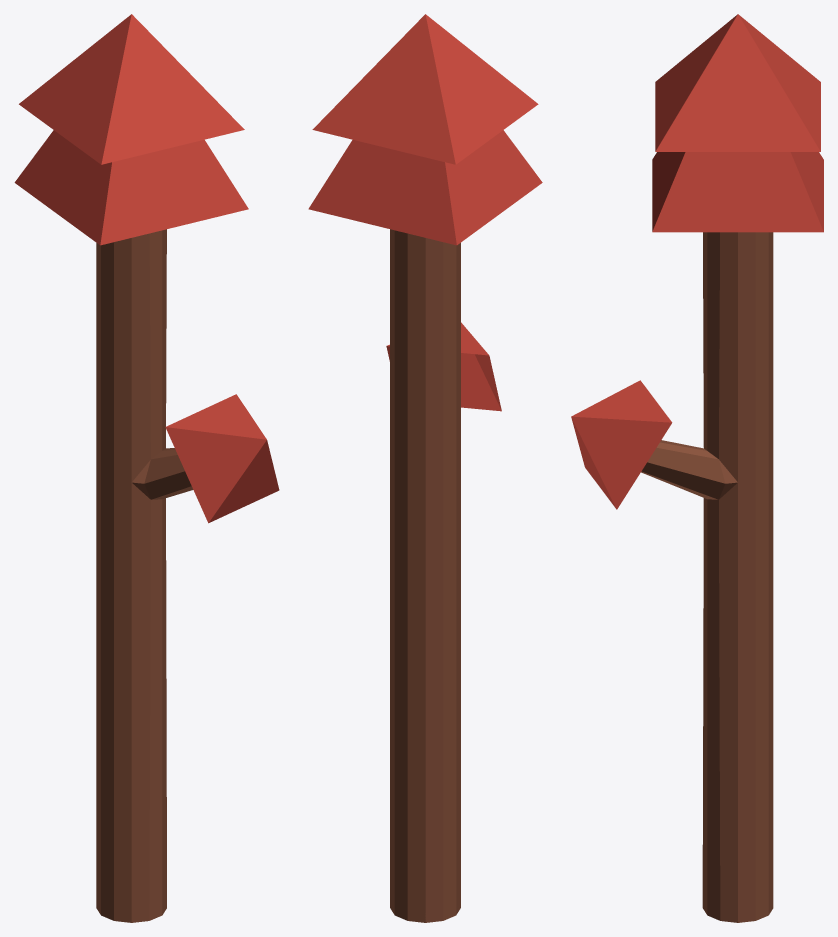
File: Tree_25_summer_red_mat.fbx
3 renders of one model, left to right at view 1: azimuth 30°, elevation 25°; view 2: azimuth 150°, elevation 25°; view 3: azimuth 270°, elevation 25°, orthographic.
Visible parts, largest first — view 1: Tree_25_summer_red_mat; view 2: Tree_25_summer_red_mat; view 3: Tree_25_summer_red_mat.
Boxes of the visible parts, x1=… form: Tree_25_summer_red_mat: x1=14, y1=14, x2=279, y2=922; Tree_25_summer_red_mat: x1=308, y1=14, x2=542, y2=922; Tree_25_summer_red_mat: x1=571, y1=14, x2=823, y2=922.
Size of the model in its own units: 58.32 by 308 by 79.03.
